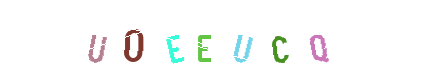0: (133, 0, 213, 80)
C: (200, 0, 280, 80)
E: (168, 0, 248, 80), (172, 0, 252, 80)
Q: (238, 0, 318, 80)
U: (93, 0, 173, 80), (174, 0, 254, 80)
